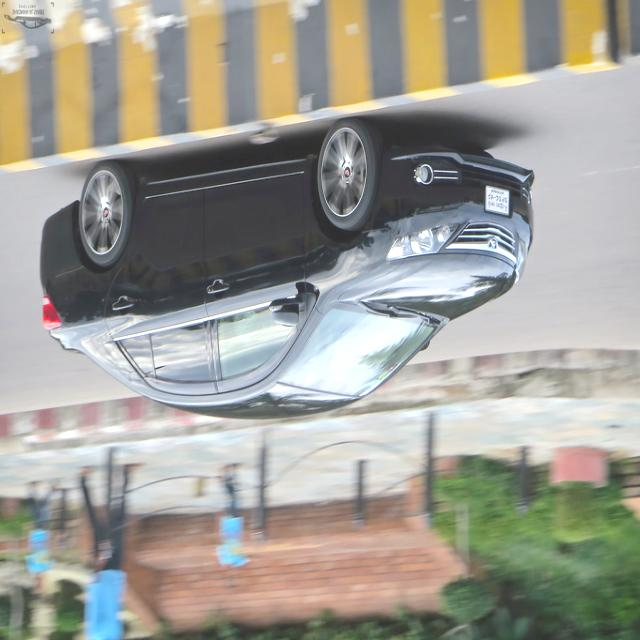black: (41, 122, 537, 423)
